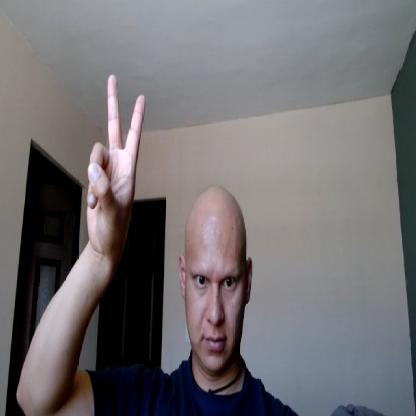V: (86, 72, 148, 252)
